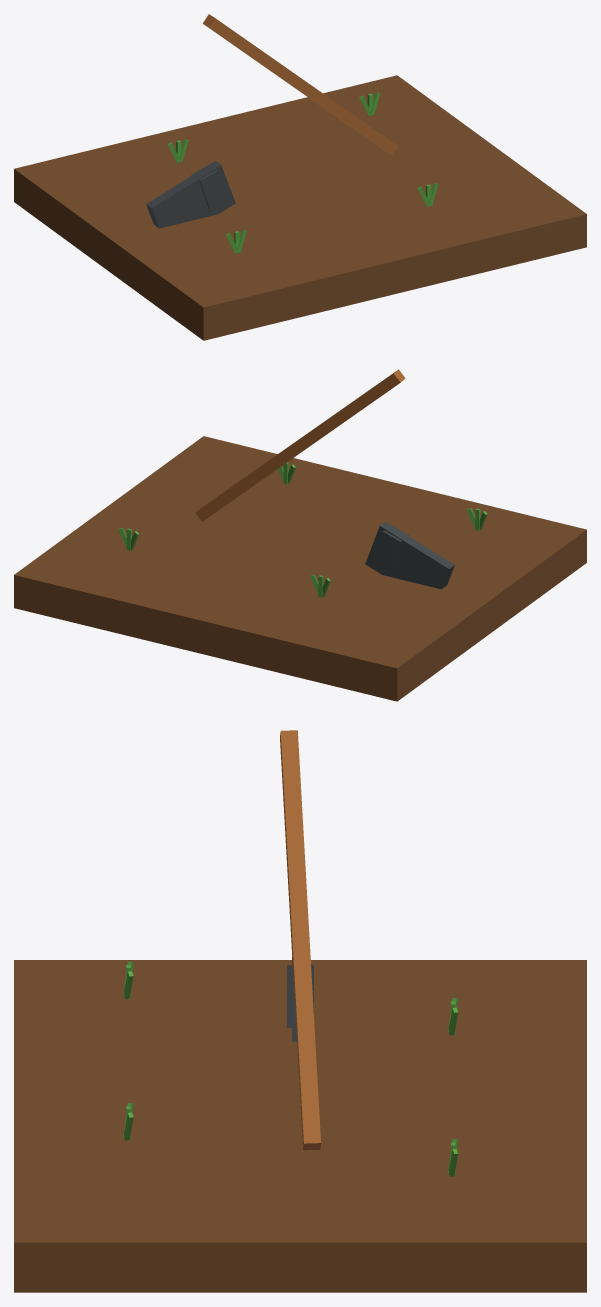
Rendered from farming_hoe.glb.
The picture shows the model from 3 angles, top to bottom: view 1: azimuth 30°, elevation 25°; view 2: azimuth 150°, elevation 25°; view 3: azimuth 270°, elevation 25°; orthographic projection. The views are drawn at different scales.
Parts seen in each view (by area): view 1: TerrainBase, HoeHandle, HoeBlade, HoeSocket; view 2: TerrainBase, HoeHandle, HoeBlade, HoeSocket; view 3: TerrainBase, HoeHandle.
Boxes of the visible parts, box(x1,y1,x2,y2) form: TerrainBase: box(14, 75, 586, 340); HoeHandle: box(203, 14, 397, 155); HoeBlade: box(146, 161, 235, 228); HoeSocket: box(191, 164, 228, 211); TerrainBase: box(14, 436, 586, 701); HoeHandle: box(195, 369, 405, 521); HoeBlade: box(365, 522, 454, 589); HoeSocket: box(372, 525, 409, 572); TerrainBase: box(14, 960, 586, 1292); HoeHandle: box(280, 730, 320, 1150).
Bounding box in the file's own units: 7 × 4.08 × 6.
